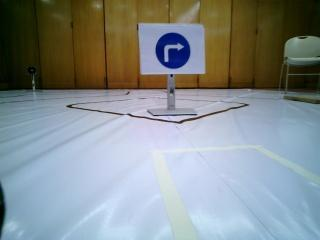right: (141, 25, 204, 75)
